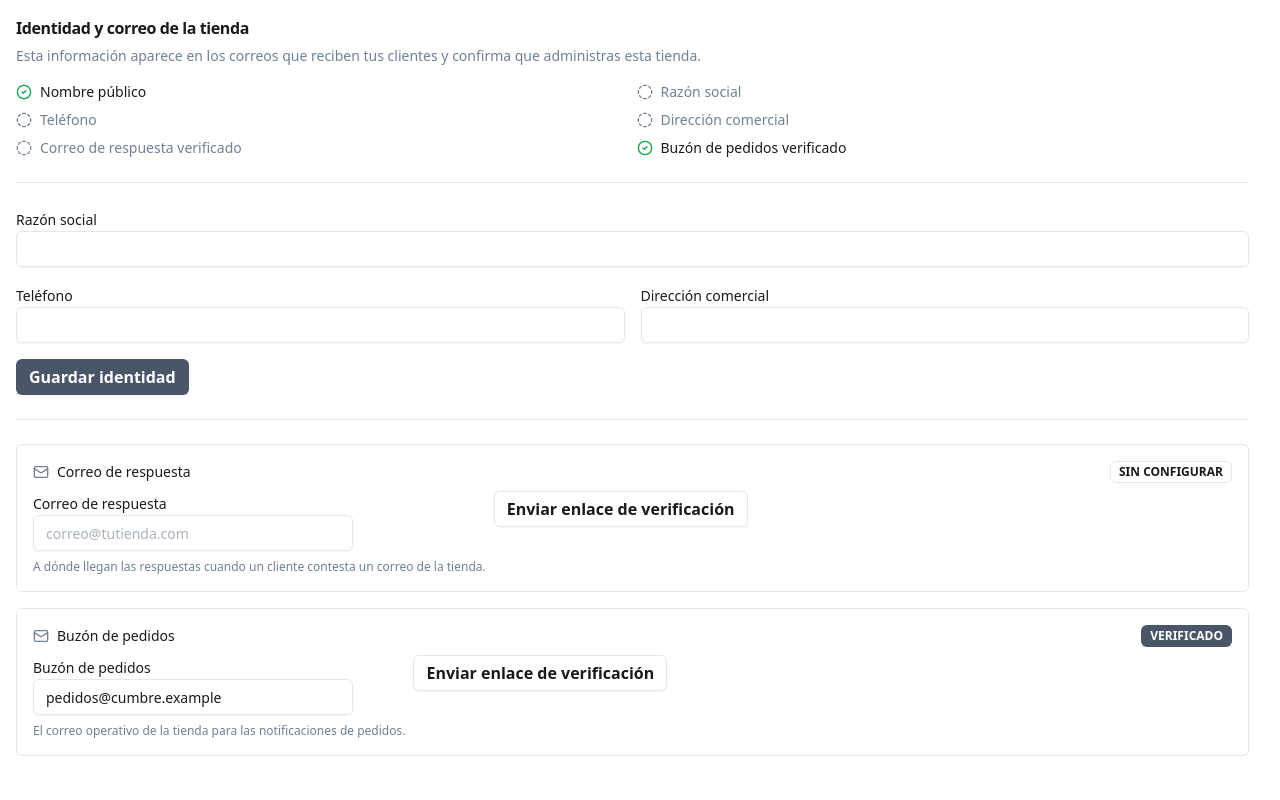
Test case: StoreIdentityPanel › reflects a successful verification request as a pending badge, without waiting for a reload
Expected: the text "Sin configurar" is shown, x1=1110 y1=461 x2=1232 y2=483
Type "hola@cumbre.example" into the field with placeholder "correo@tutienda.com" at (193, 533), box x1=33 y1=515 x2=353 y2=551
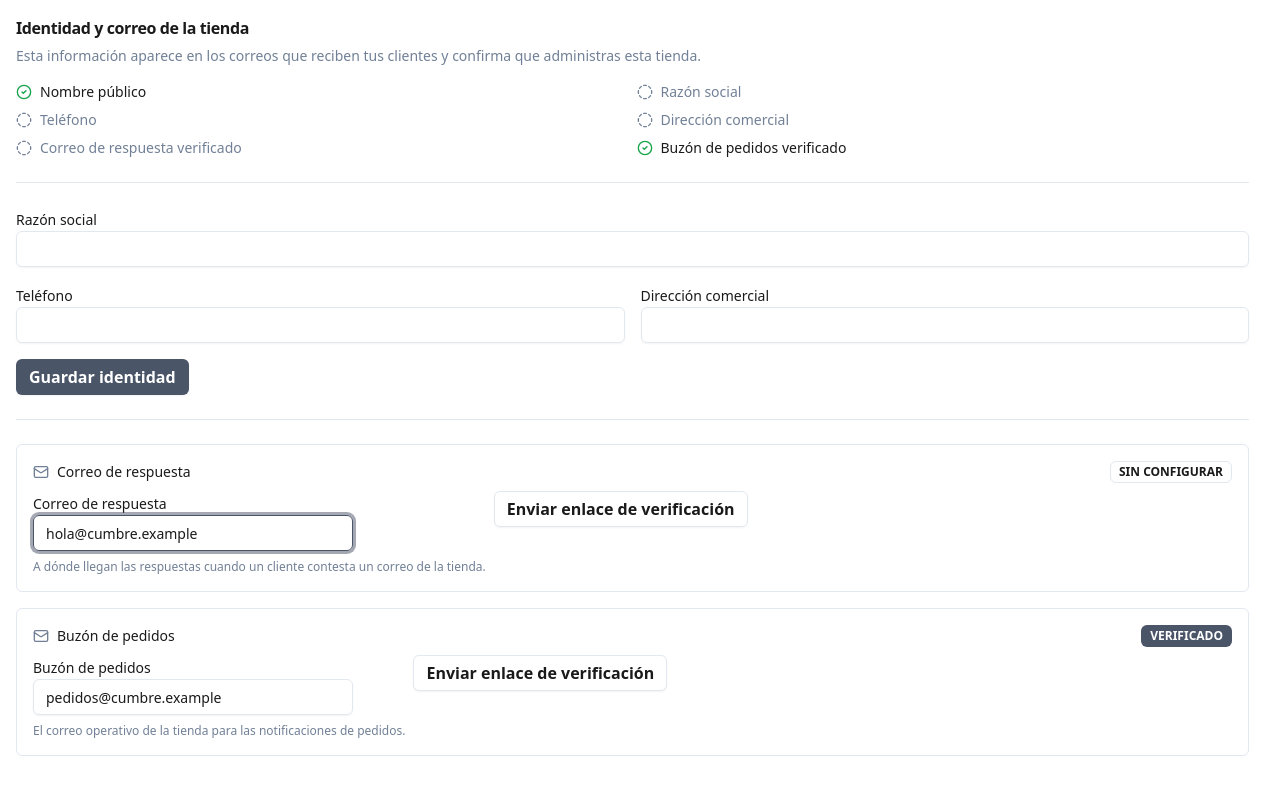
Click the 1st button "Enviar enlace de verificación" at (621, 509), box x1=494 y1=491 x2=748 y2=527
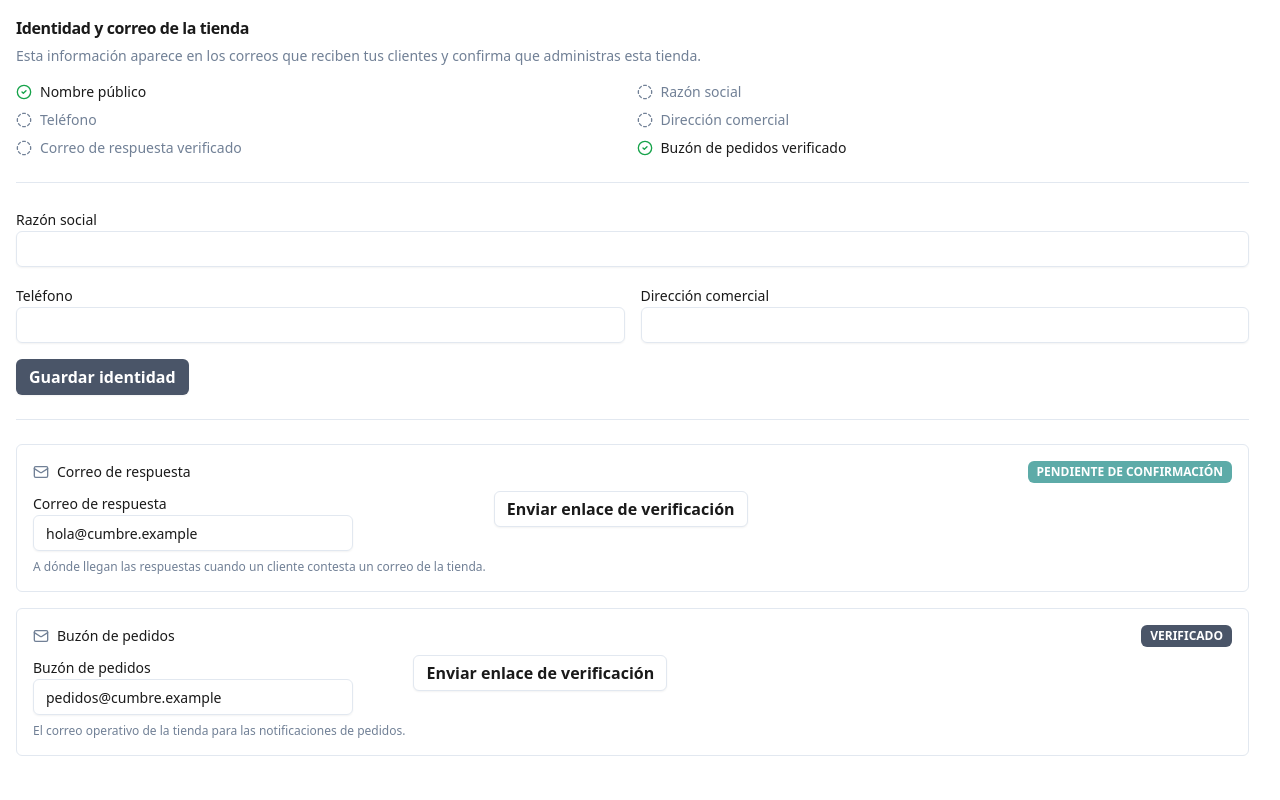
Expected: the text "Pendiente de confirmación" is shown, x1=1028 y1=461 x2=1232 y2=483
Expected: the text "Sin configurar" is gone
